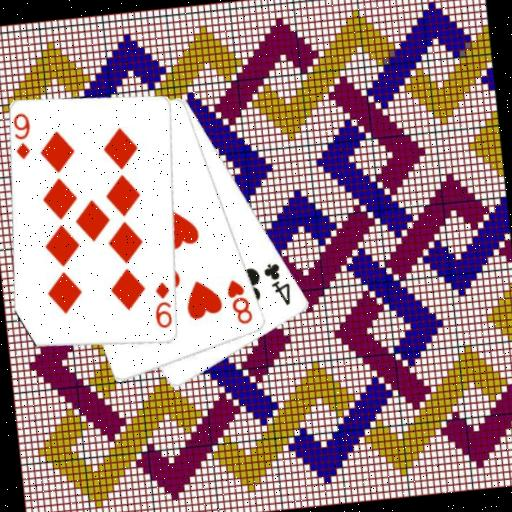4C: (260, 259, 295, 310)
8H: (223, 275, 256, 328)
9D: (149, 279, 175, 331), (9, 110, 35, 162)
